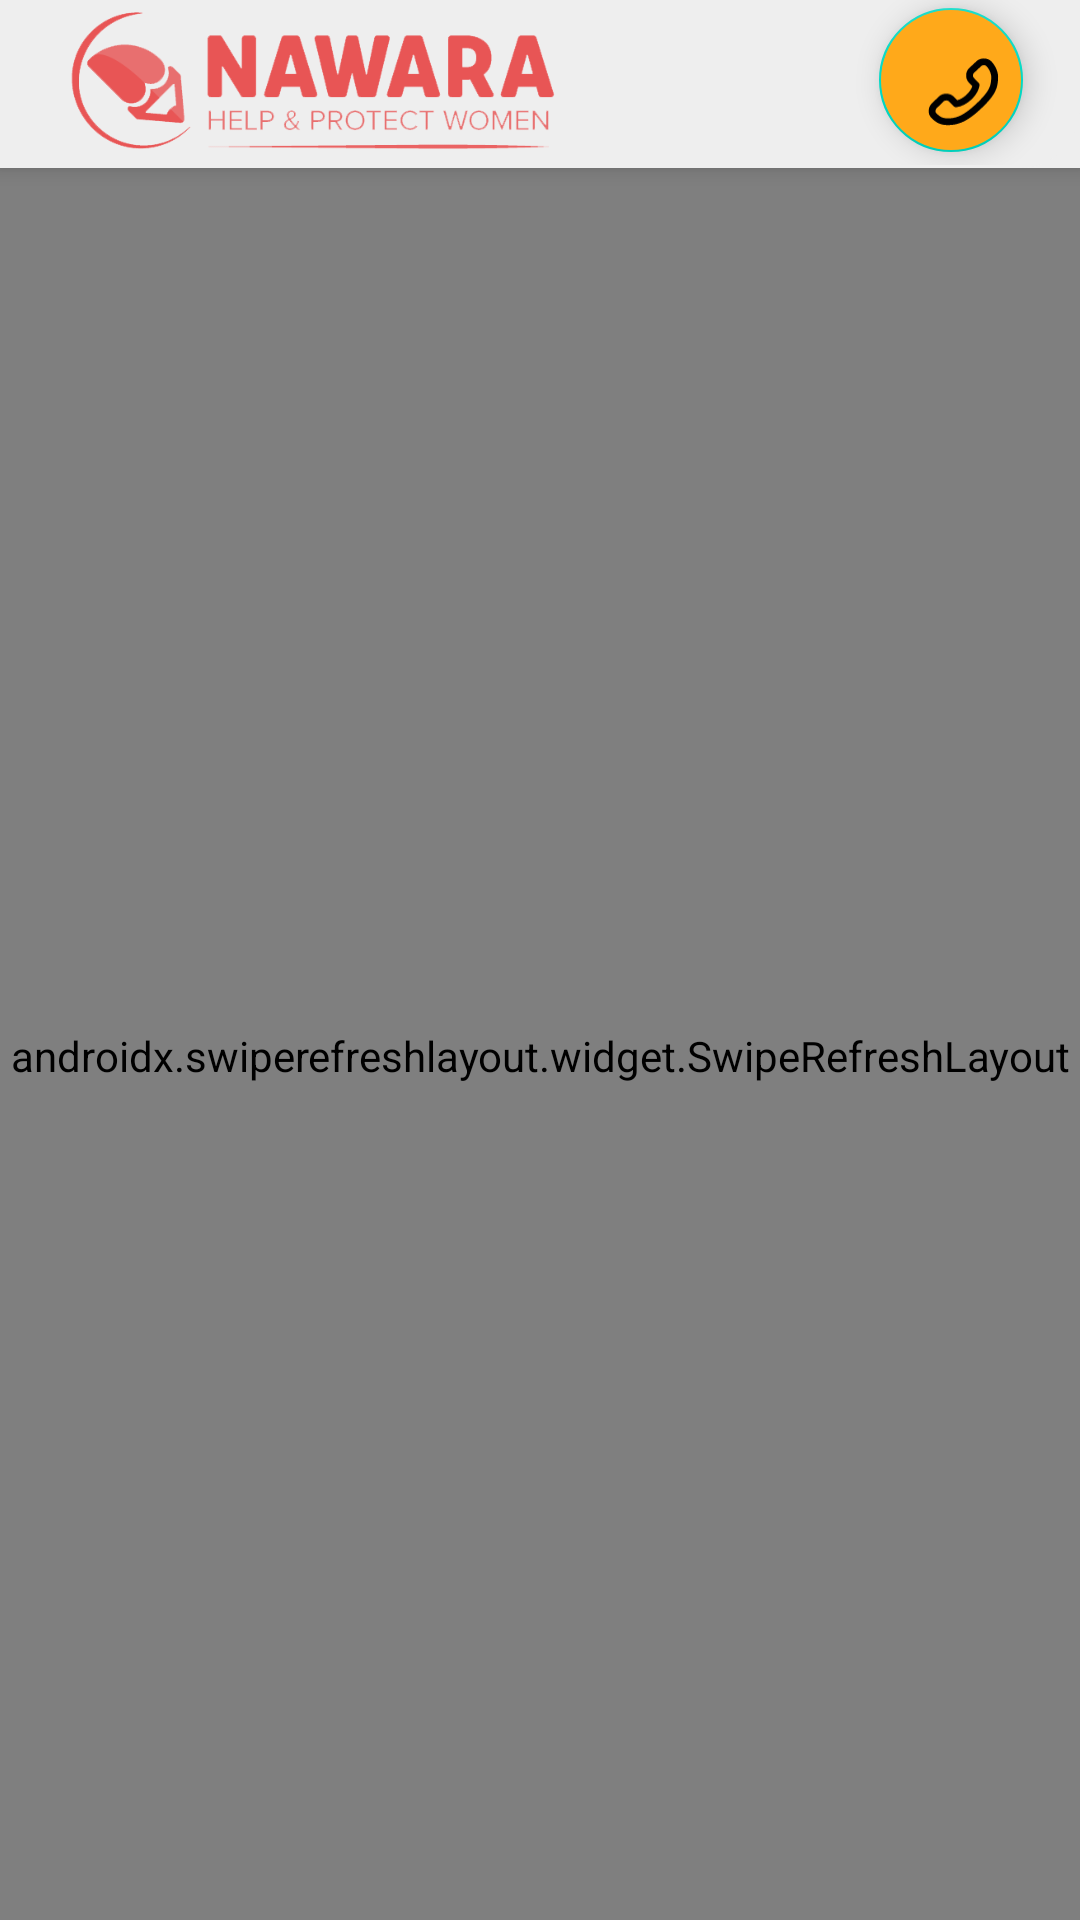

Where to tap for icons on this 1080 × 1920 app screen, as (x=x, y=y):
phone emergency: (x=951, y=80)
